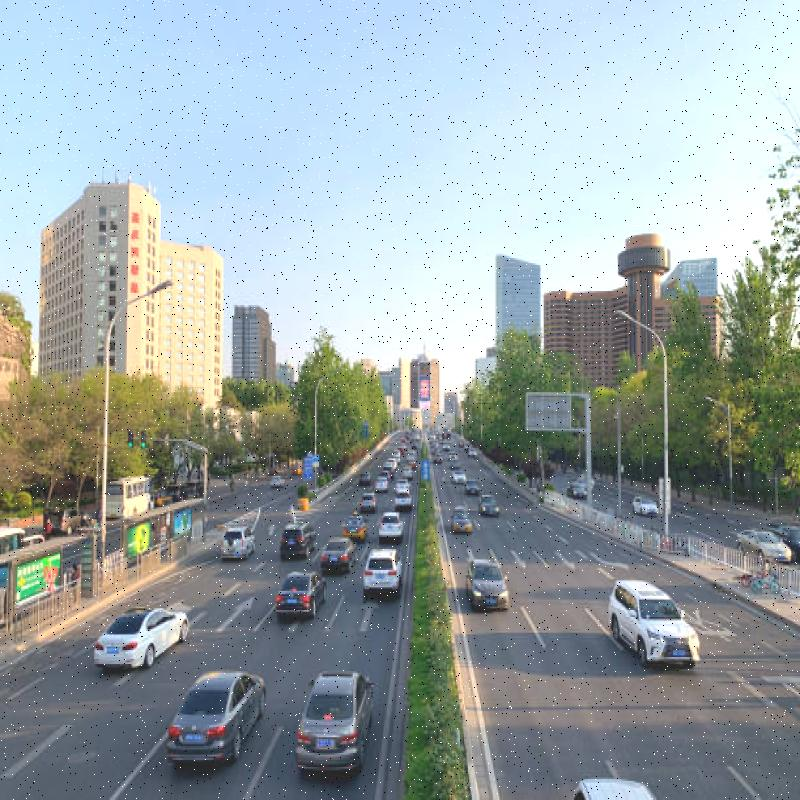car: (277, 663, 380, 787), (181, 668, 268, 762), (599, 586, 688, 664), (97, 597, 181, 658), (271, 560, 330, 613), (463, 560, 511, 610), (216, 520, 264, 566), (361, 551, 404, 597), (372, 508, 411, 541)
